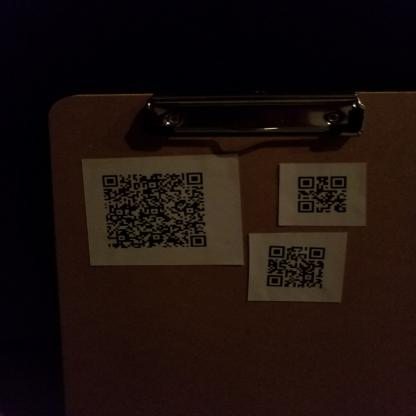qr: (99, 171, 208, 251), (264, 242, 332, 291), (295, 173, 353, 219)
